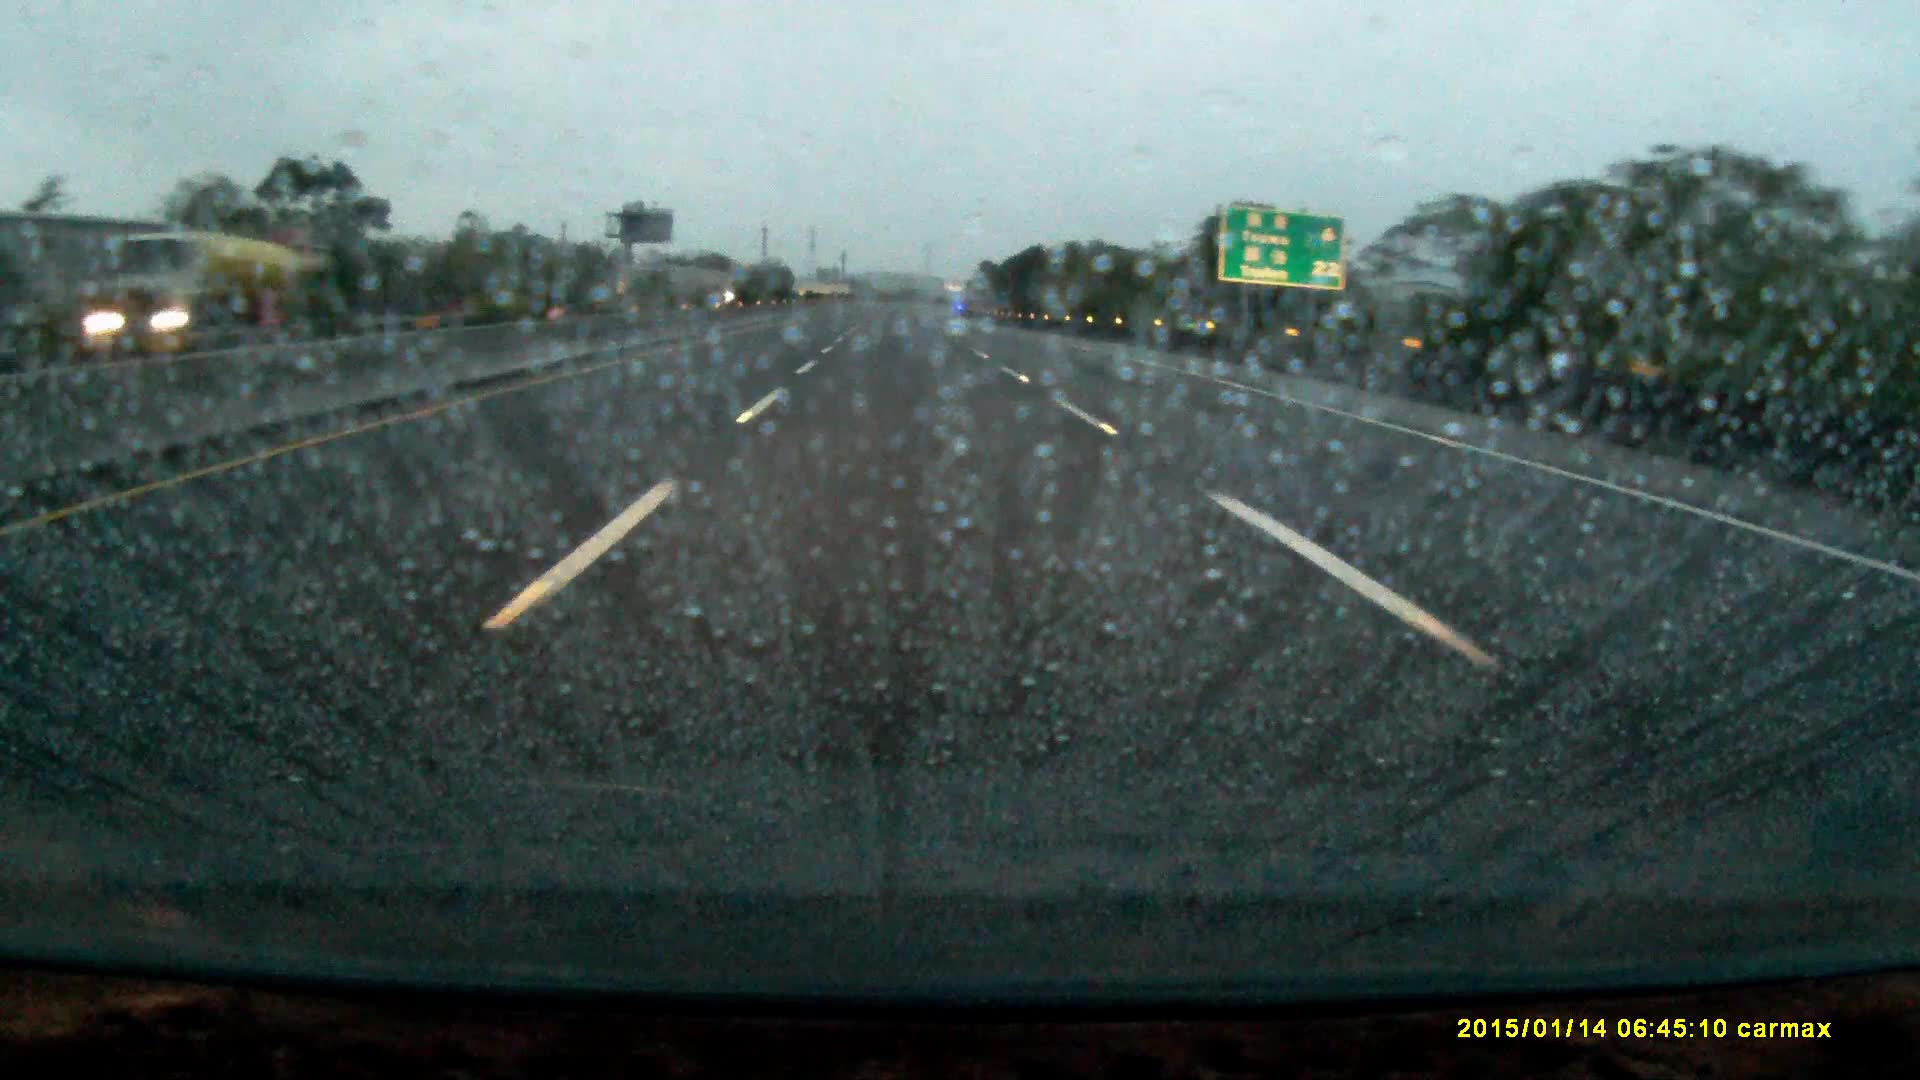vehicle: (83, 236, 310, 326), (84, 291, 225, 356)
